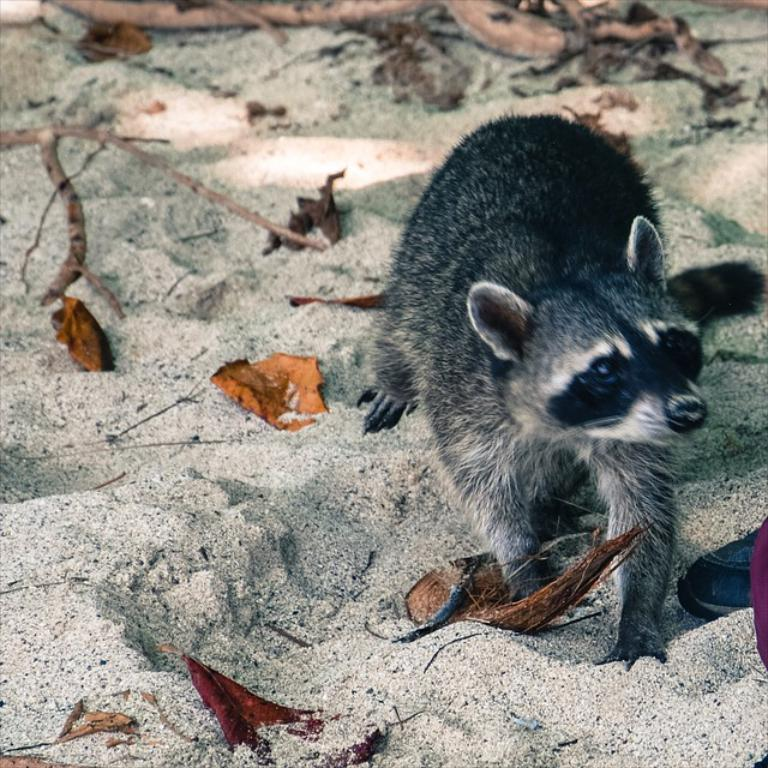raccoon: (360, 113, 768, 672)
